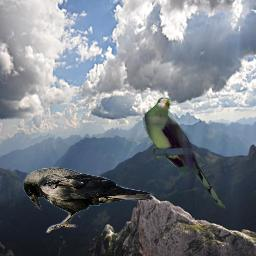Crow: (23, 167, 155, 233)
Cuckoo: (143, 97, 230, 209)
